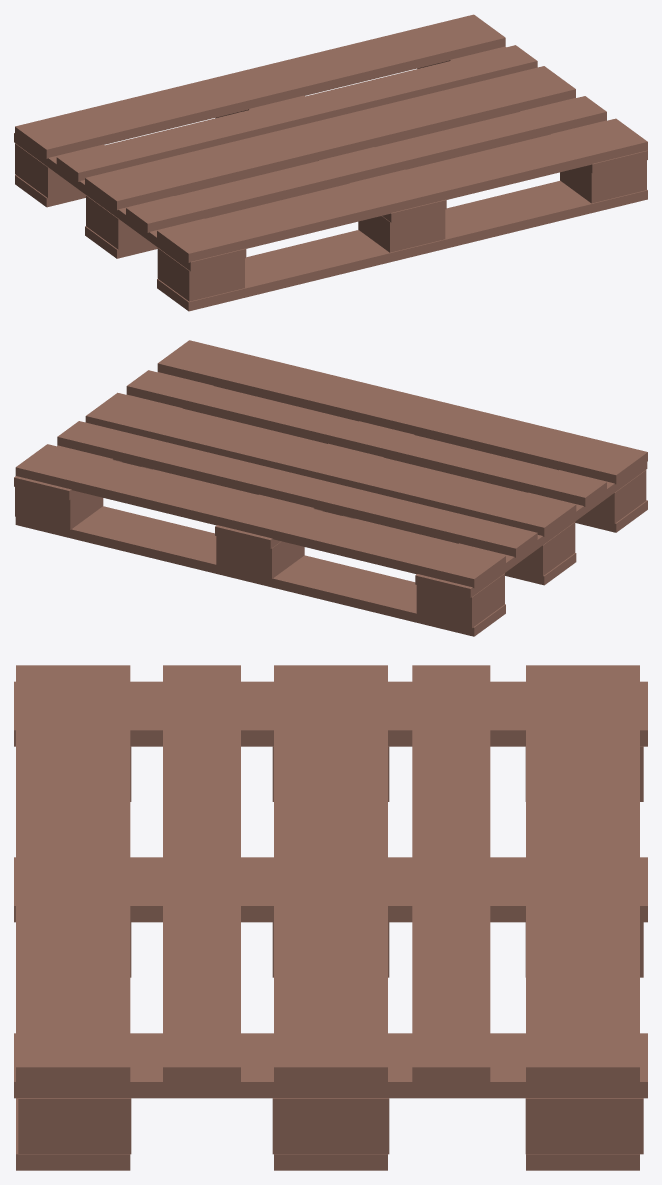
The model's file is EUR-Pallet.glb.
The picture shows the model from 3 angles, top to bottom: view 1: azimuth 30°, elevation 25°; view 2: azimuth 150°, elevation 25°; view 3: azimuth 270°, elevation 25°; orthographic projection. The views are drawn at different scales.
Visible parts, largest first — view 1: EUPallette_mesh; view 2: EUPallette_mesh; view 3: EUPallette_mesh.
Boxes of the visible parts, x1,y1,x2,y2 form: EUPallette_mesh: (14,14,647,311); EUPallette_mesh: (14,340,647,636); EUPallette_mesh: (14,665,647,1170).
Size of the model in its own units: 1.2 by 0.144 by 0.8.
1 material, 1 textured.
